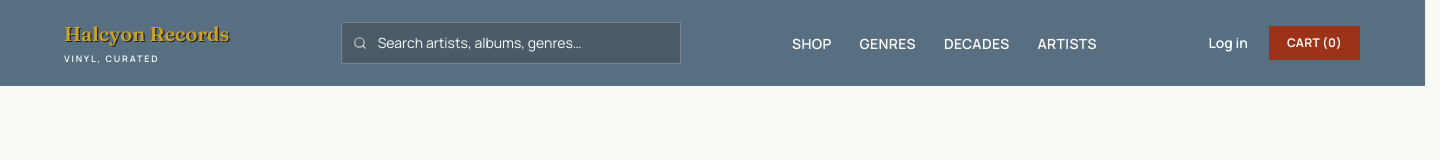
Test: Header › shows a clear button only once there is a query, and clearing empties and refocuses the box
Type "Rock" into the search field labelled "Search artists, albums, genres" at (511, 43), box [341,22,681,64]
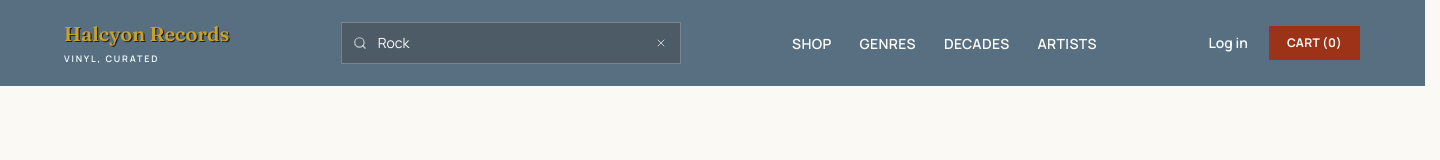
Click the button named "Clear search" at (661, 43), box [649,31,673,55]
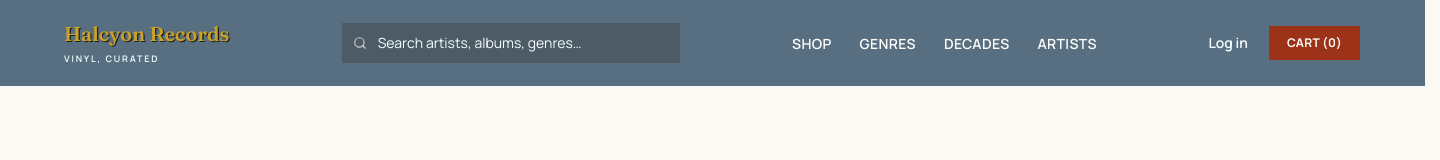
Check: the search field labelled "Search artists, albums, genres" is empty, box [341,22,681,64]
